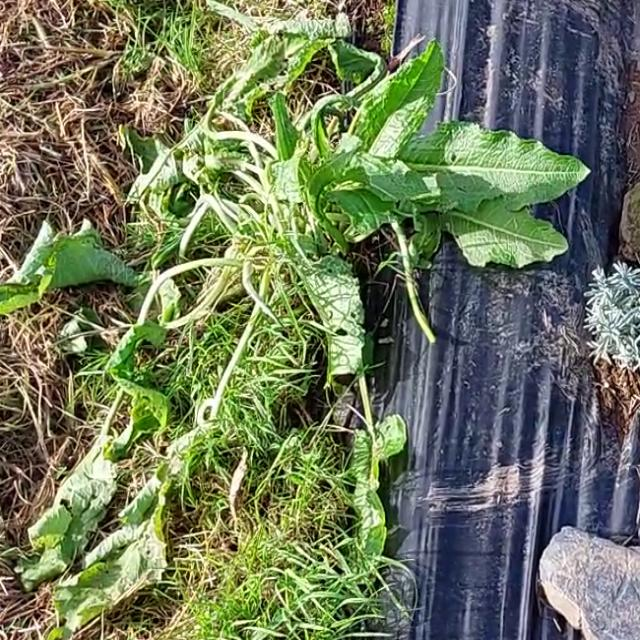organic waste: (0, 28, 606, 613)
